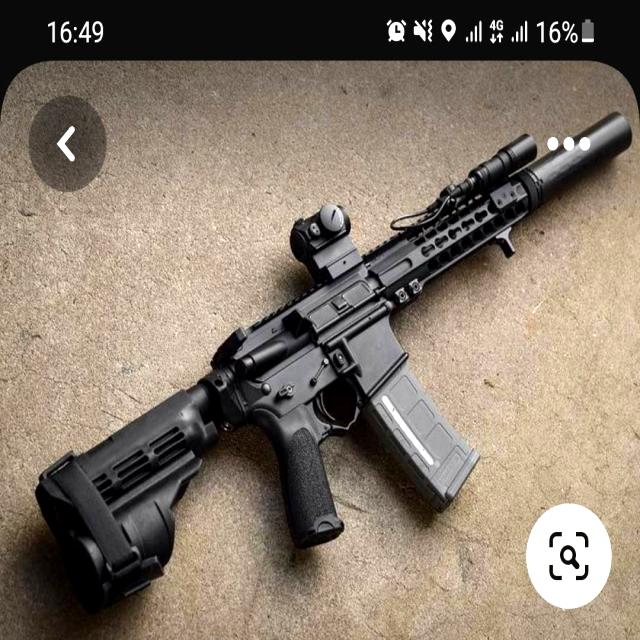m16: (24, 110, 639, 612)
